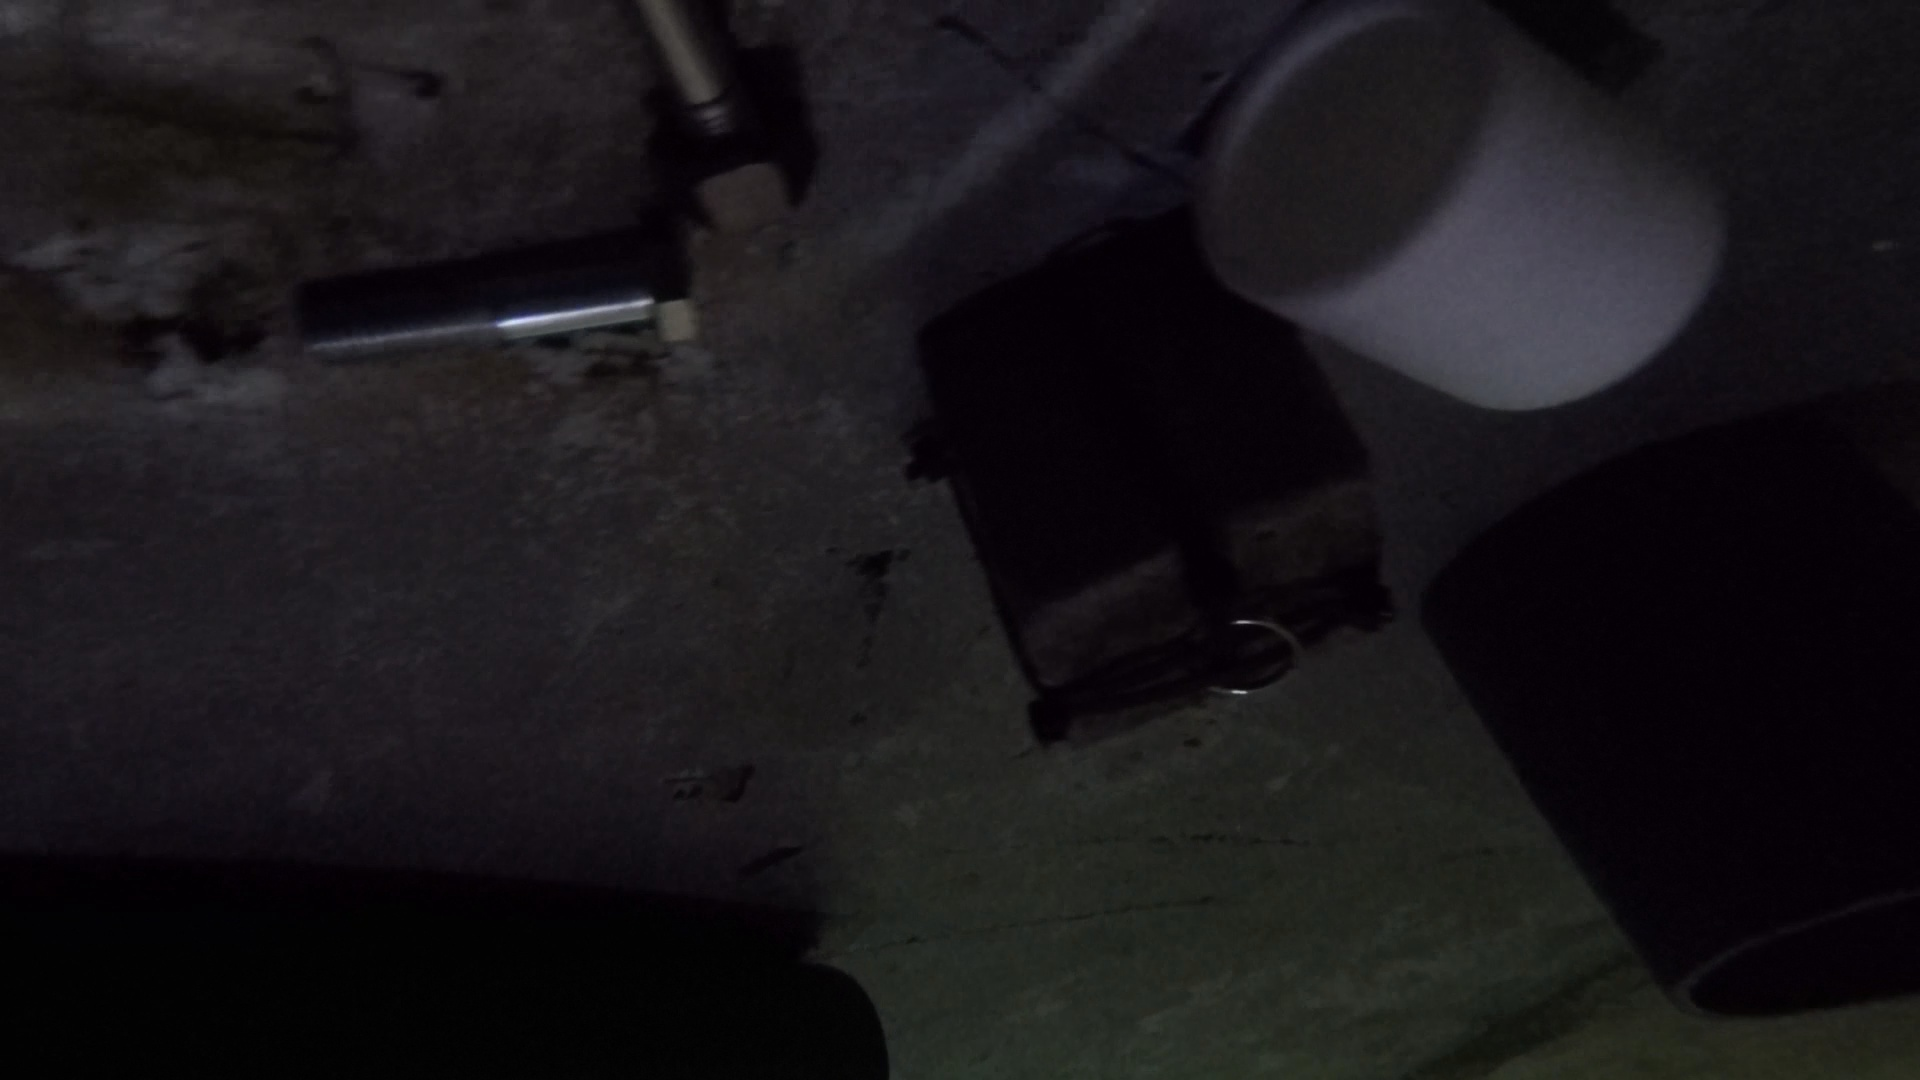bolt: (293, 233, 703, 363), (618, 1, 764, 160)
led_block: (906, 200, 1403, 764)
nut: (665, 116, 824, 247)
pipe: (1418, 398, 1920, 1029), (1189, 1, 1727, 410), (3, 924, 887, 1080)
